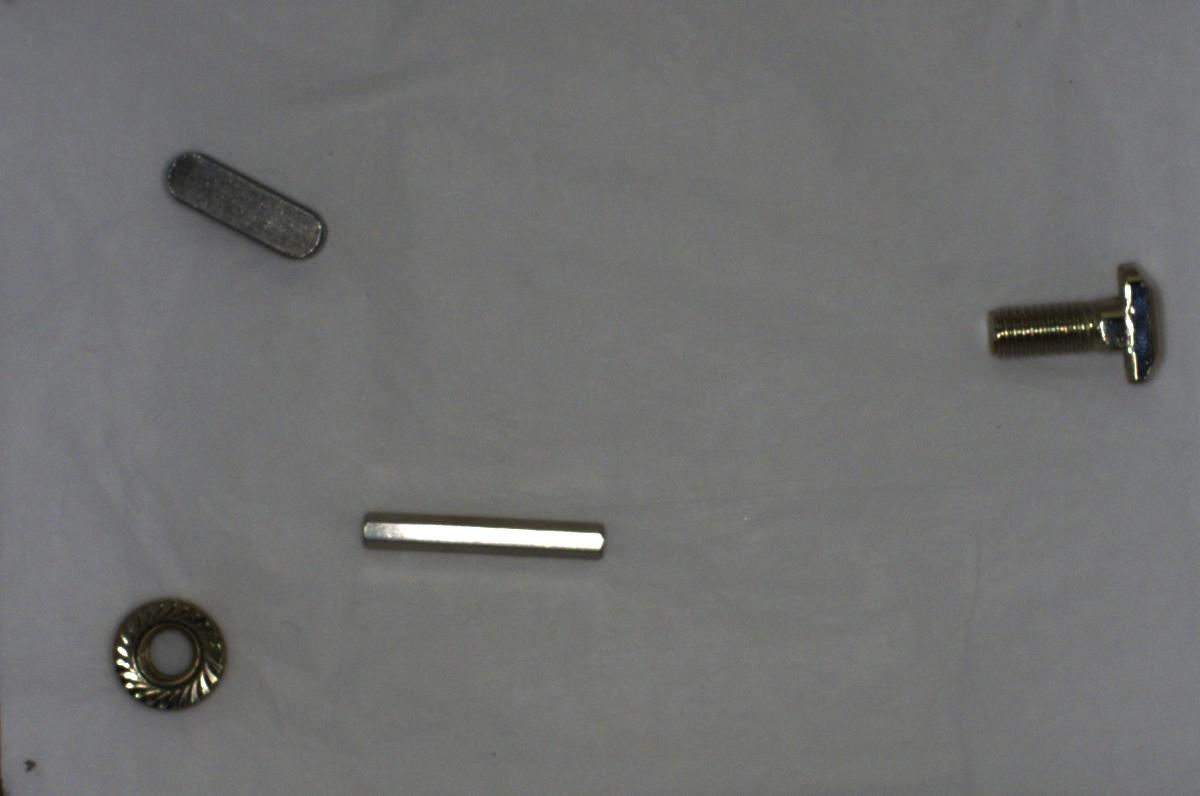Double hexagonal column: (341, 503, 610, 567)
Flange nut: (100, 590, 233, 713)
Keybar: (152, 142, 330, 265)
T-shaped screw: (974, 254, 1171, 401)
